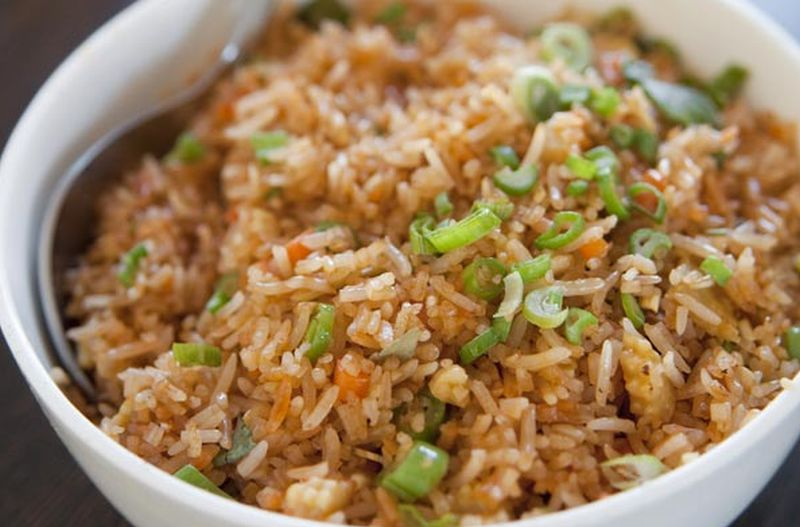Nasi Merah: (16, 4, 800, 509)
